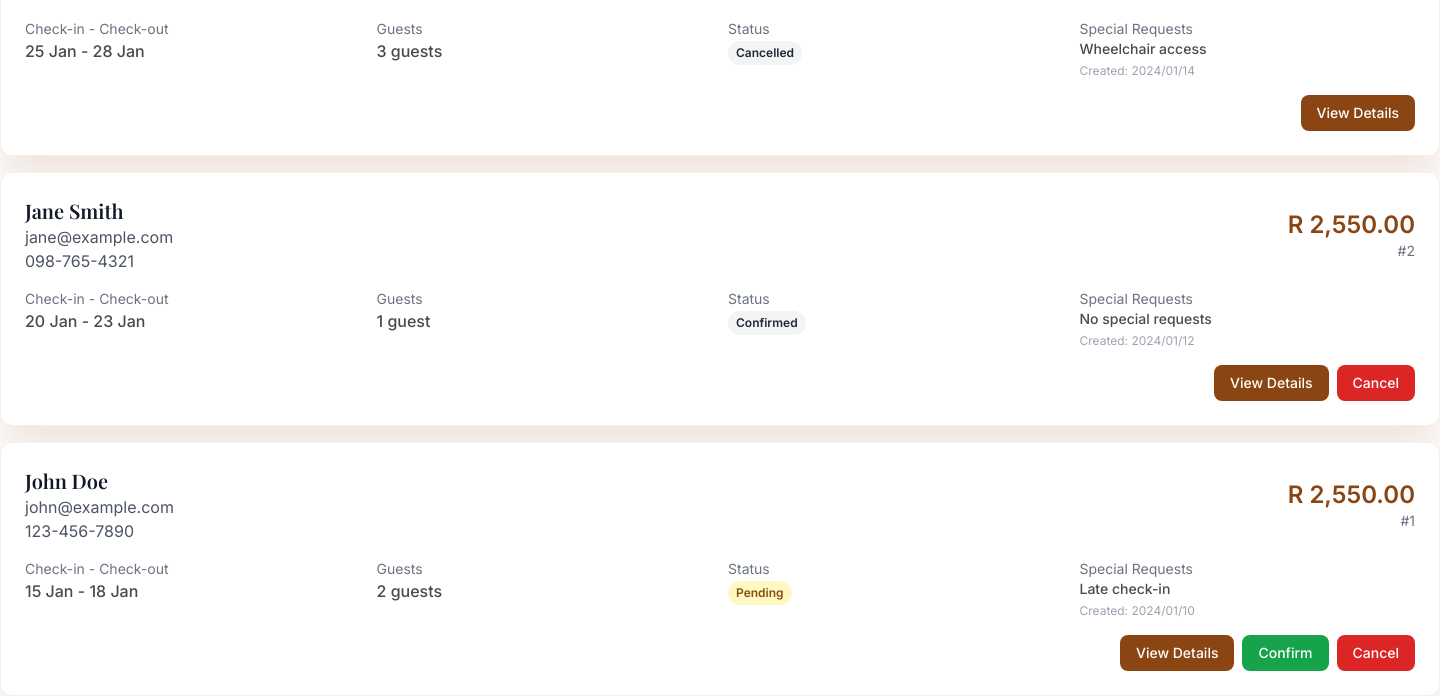
Test: BookingList Component › Booking Actions › handles status update error gracefully
(page scrolled)
What coordinates should you click on to do the following:
click the button "Confirm"
I would click on:
 (1286, 653)
Its box is x1=1242 y1=635 x2=1329 y2=671.
(page scrolled)
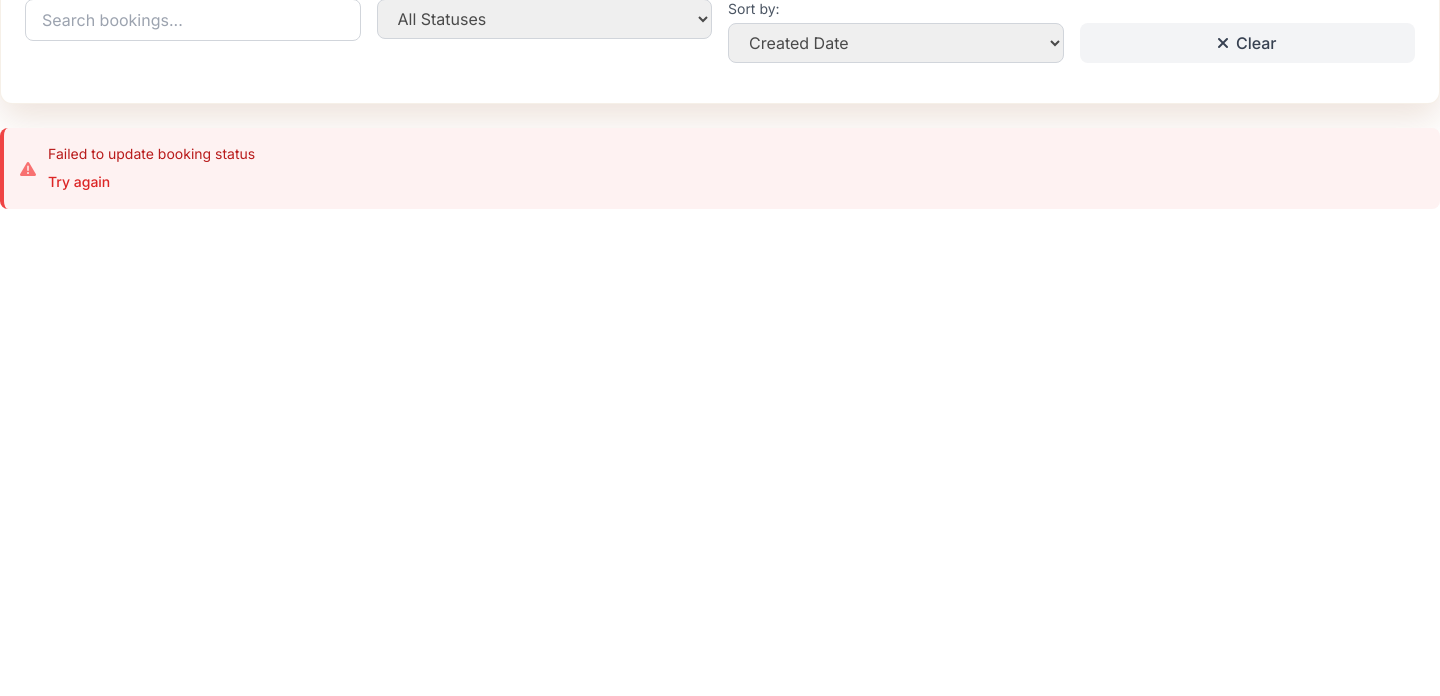
Check: the text "Failed to update booking status" is shown, box x1=48 y1=144 x2=255 y2=164
